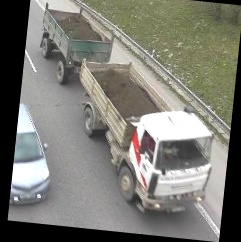truck: (25, 8, 229, 221)
